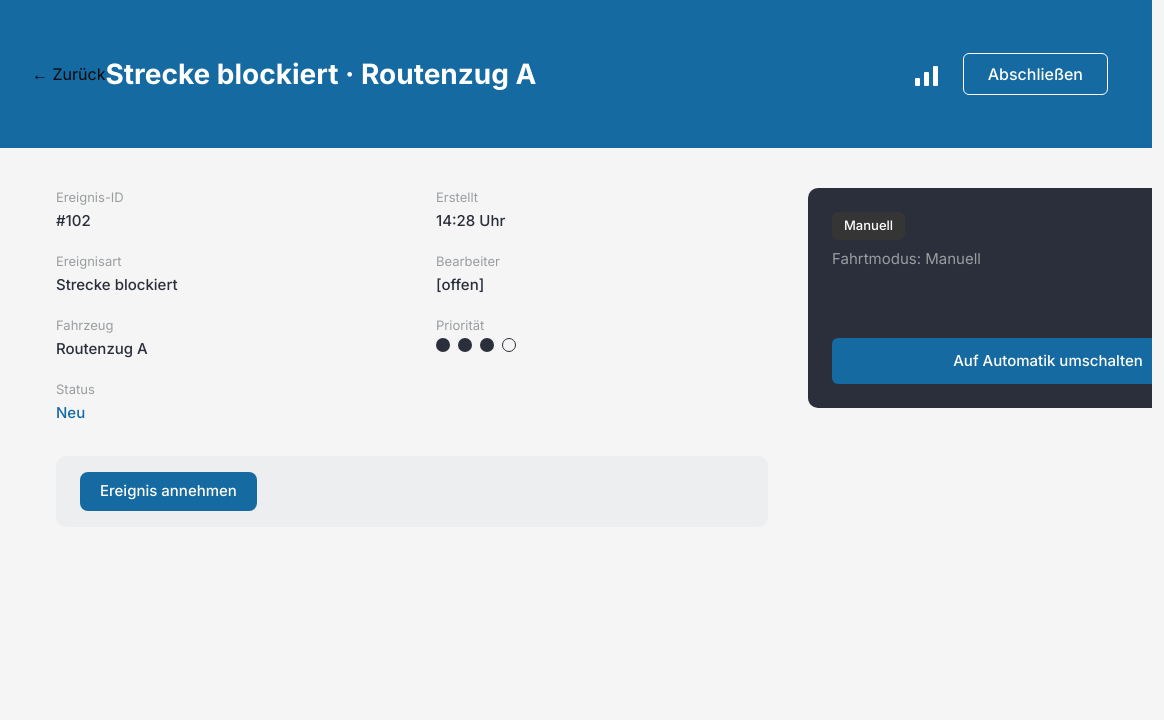
Test: ER-02 — EreignisDetailPage — Status-Workflow: neu → in-bearbeitung › Klick auf 'Ereignis annehmen' wechselt Status auf 'In Bearbeitung'
Click the button "Ereignis annehmen" at coordinates (168, 491), box [80,472,257,510]
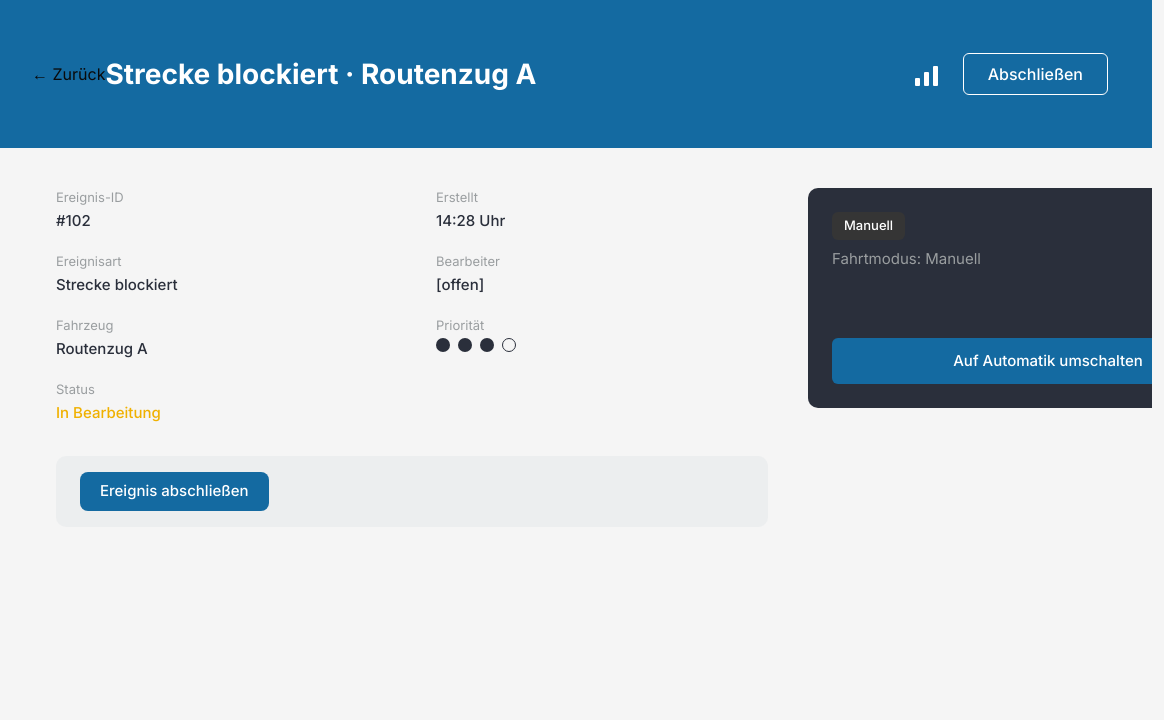
Check: the text "In Bearbeitung" is shown, box [56,402,161,422]
